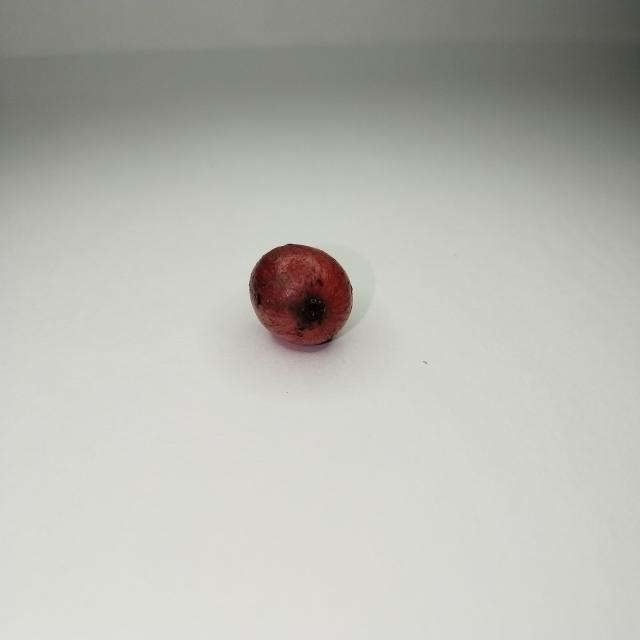Infectado: (250, 244, 352, 348)
